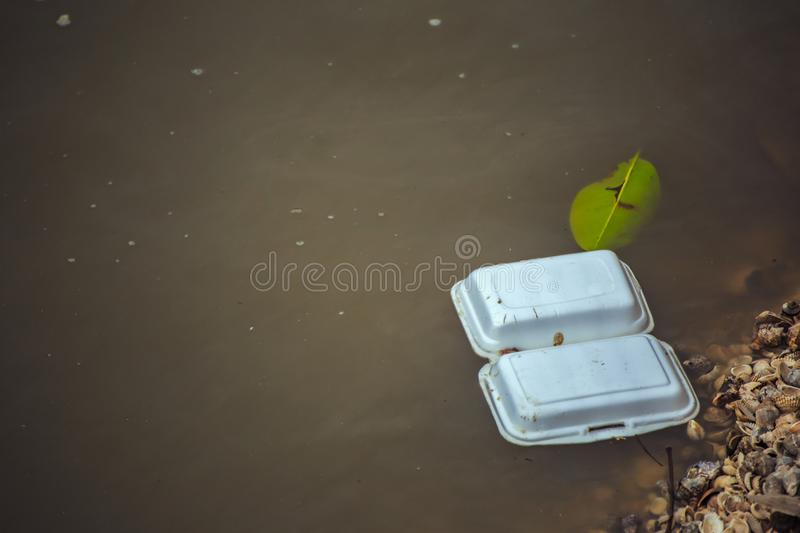Foam Box: (445, 246, 707, 449)
